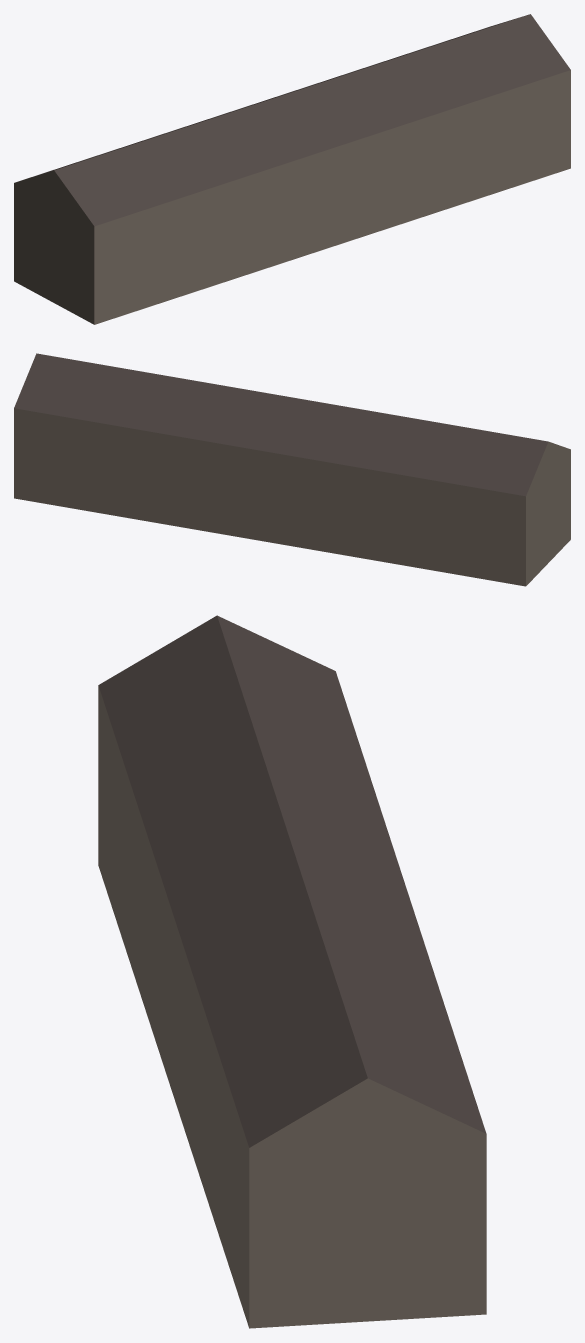
The picture shows the model from 3 angles, top to bottom: view 1: azimuth 30°, elevation 25°; view 2: azimuth 150°, elevation 25°; view 3: azimuth 270°, elevation 25°; orthographic projection. The views are drawn at different scales.
Parts seen in each view (by area): view 1: HP-w1076065860; view 2: HP-w1076065860; view 3: HP-w1076065860.
Boxes of the visible parts, box(x1,y1,x2,y2) form: HP-w1076065860: box(14, 14, 570, 324); HP-w1076065860: box(14, 353, 570, 586); HP-w1076065860: box(98, 615, 486, 1328).
Size of the model in its own units: 34.01 by 8.08 by 11.7.
